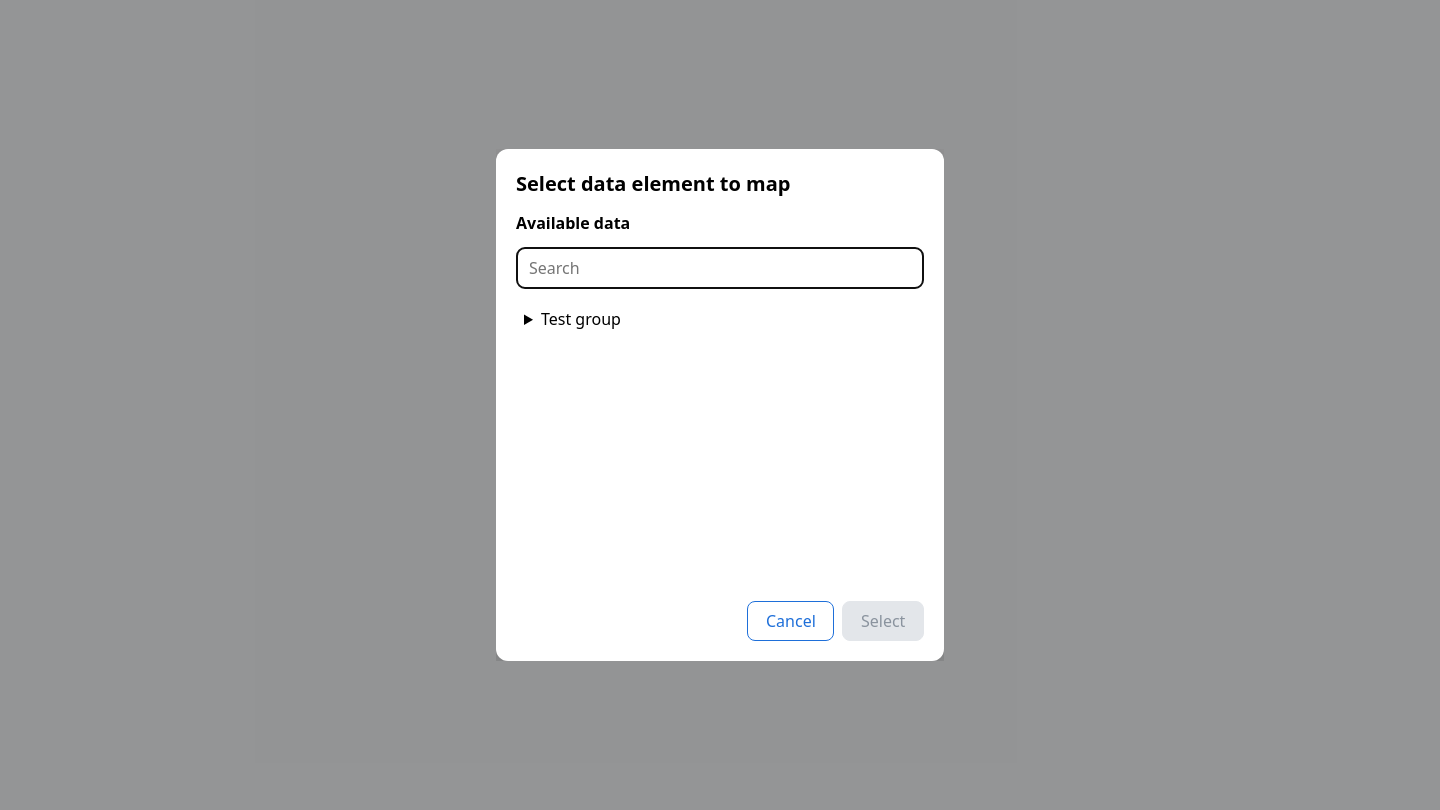
Test: DataElementModal › clears chosen dataElement when query changes, because it may no longer be visible
Click the heading "Test group" at (581, 319), box x1=541 y1=308 x2=621 y2=330
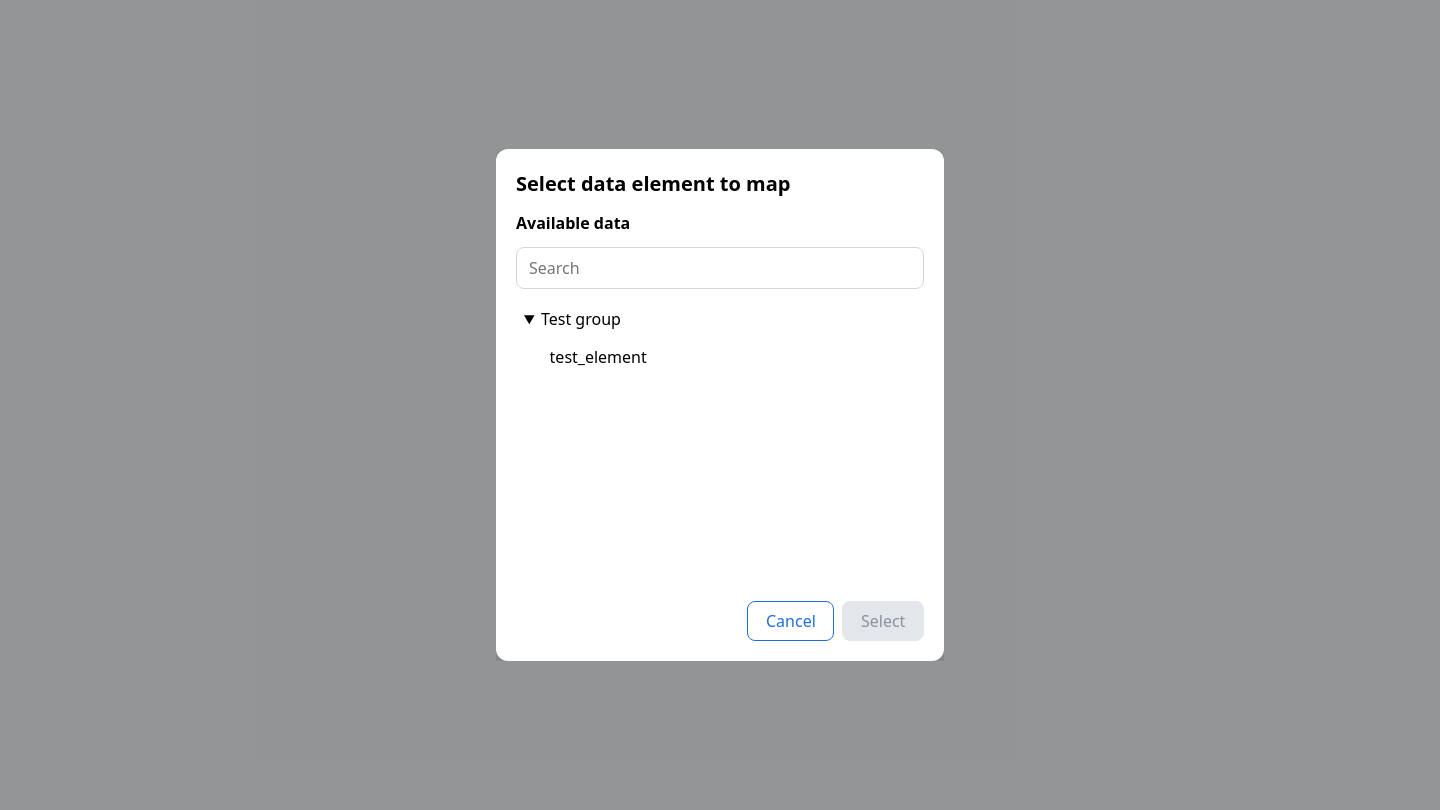
Click the button "test_element" at (598, 357), box x1=540 y1=340 x2=924 y2=374
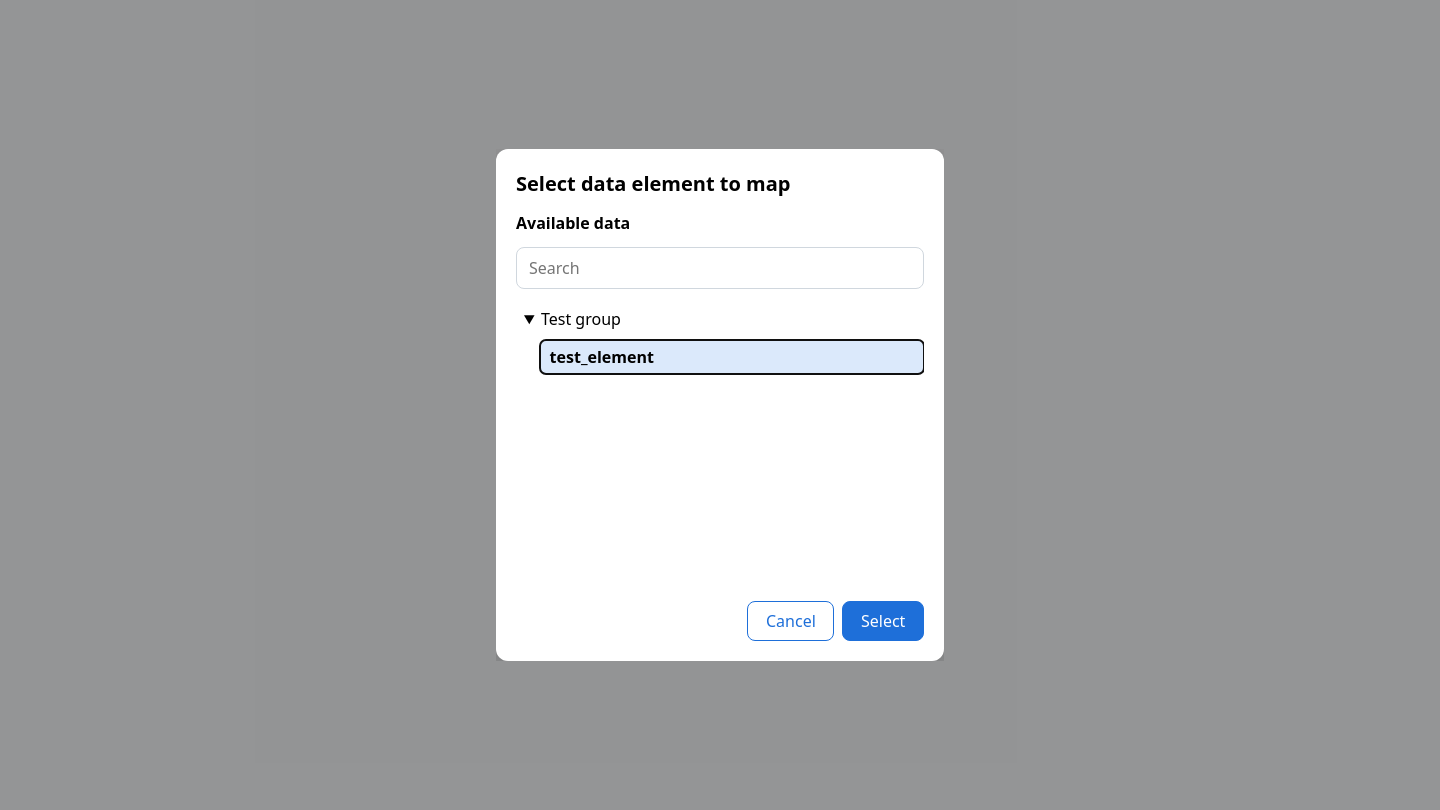
Expected: the button "Select" is enabled, x1=842 y1=601 x2=924 y2=641
Type "t" into the search field named "Search data elements" at (720, 268), box x1=516 y1=247 x2=924 y2=289
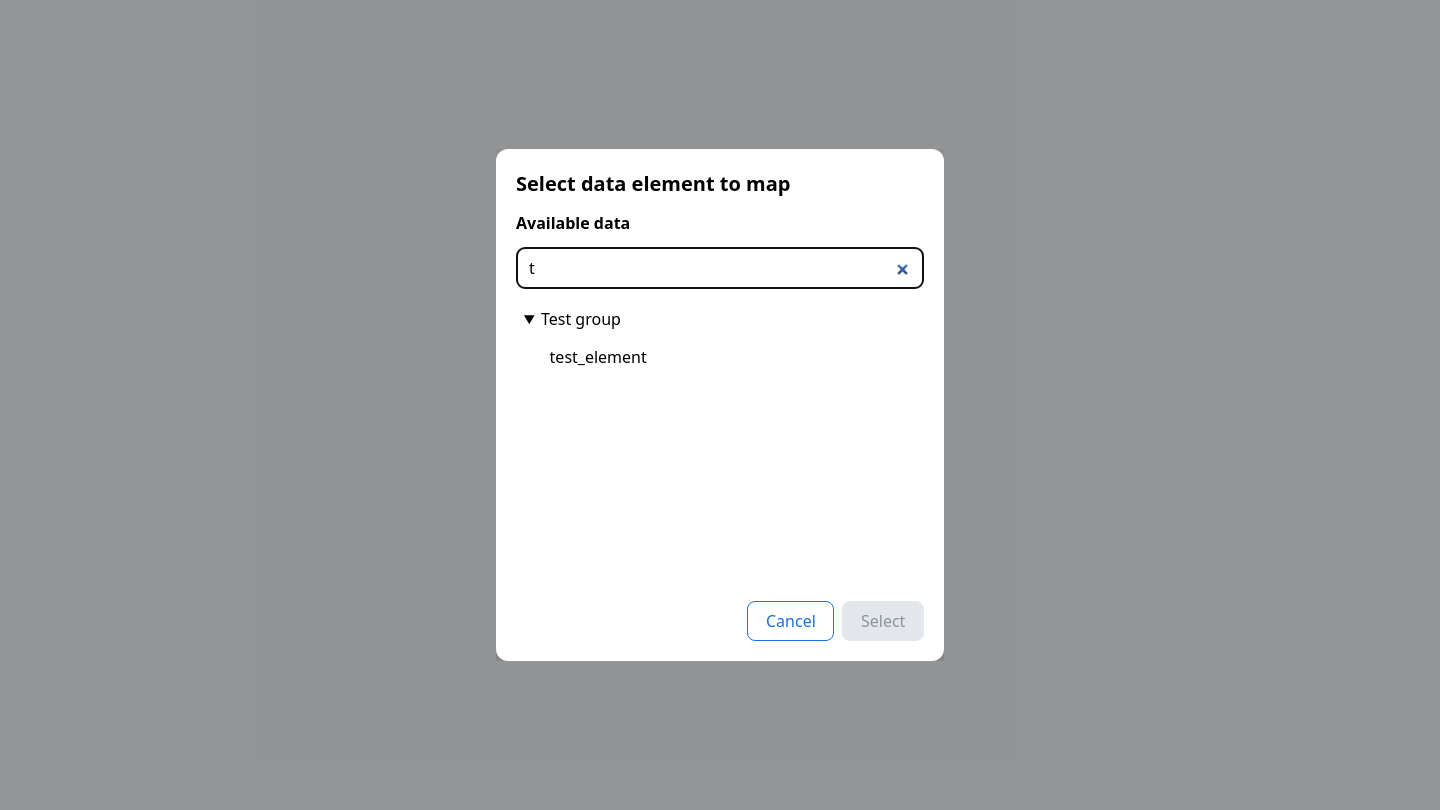
Expected: the button "Select" is disabled, x1=842 y1=601 x2=924 y2=641
